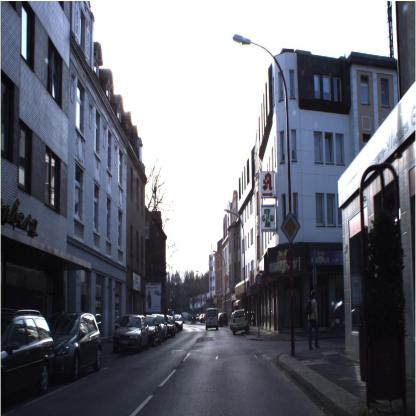other: (278, 207, 300, 246)
prohibitory: (253, 270, 263, 290)
